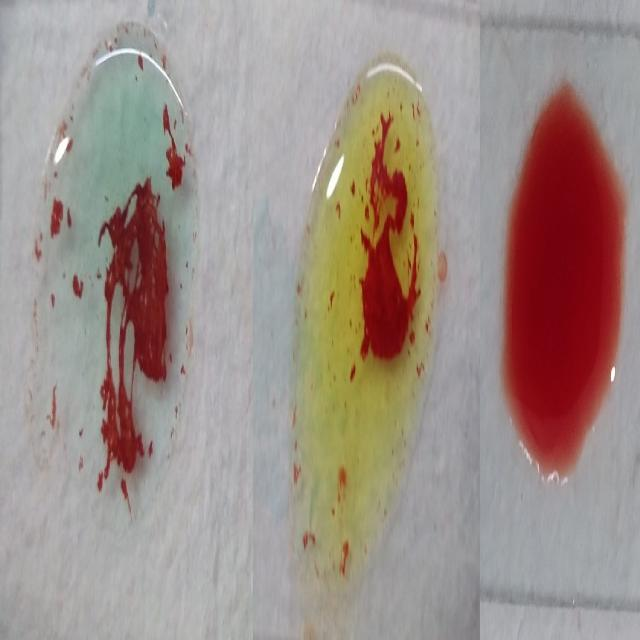A: (33, 38, 203, 526)
B: (294, 59, 436, 604)
